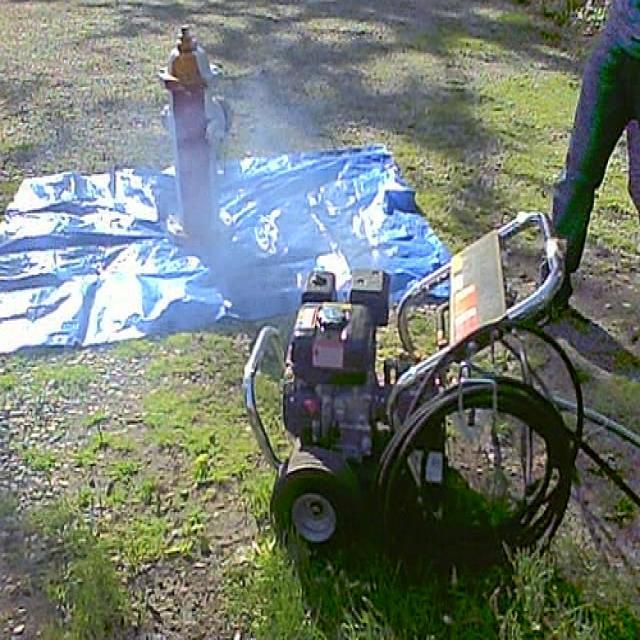fire_hydrant: (160, 27, 236, 246)
